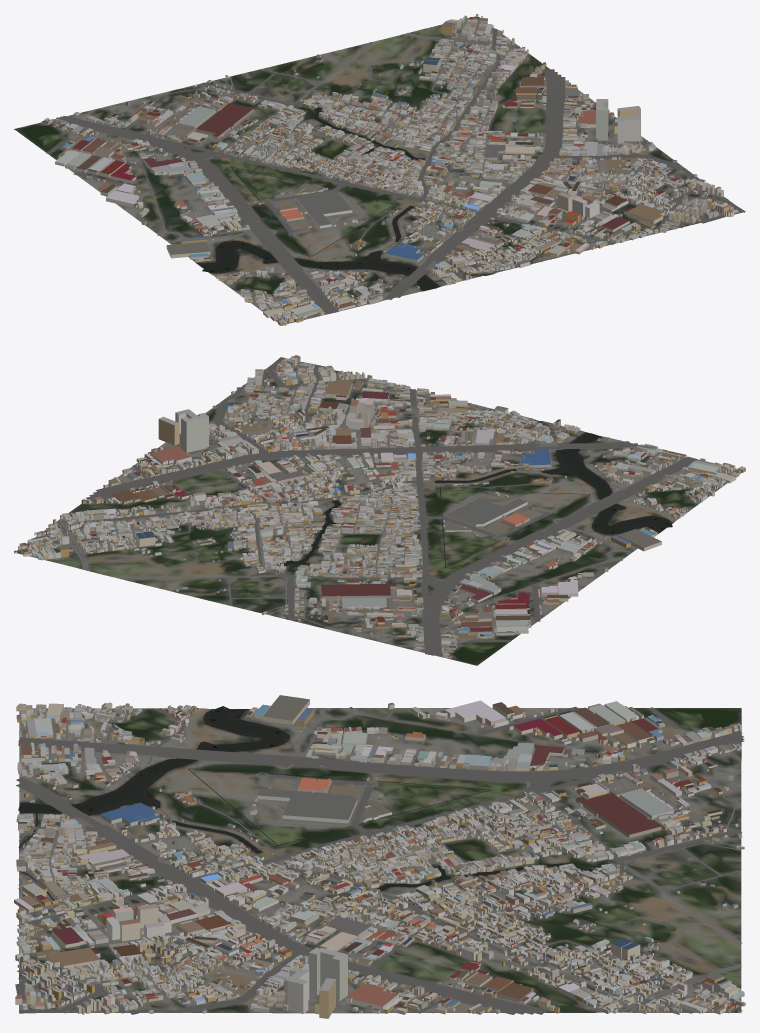
The picture shows the model from 3 angles, top to bottom: view 1: azimuth 30°, elevation 25°; view 2: azimuth 150°, elevation 25°; view 3: azimuth 270°, elevation 25°; orthographic projection. The views are drawn at different scales.
Parts seen in each view (by area): view 1: buildings, ground, roads, water; view 2: buildings, ground, roads, water; view 3: buildings, ground, roads, water.
Part boxes in pixels (x1,y1,x2,y2): buildings: [42, 14, 738, 325]; ground: [14, 16, 744, 323]; roads: [46, 17, 745, 323]; water: [197, 107, 562, 290]; buildings: [14, 355, 745, 658]; ground: [14, 358, 741, 665]; roads: [17, 357, 734, 656]; water: [280, 410, 672, 567]; buildings: [14, 695, 745, 1018]; ground: [19, 708, 741, 1013]; roads: [15, 706, 744, 1014]; water: [18, 706, 593, 900].
Bounding box in the file's own units: 1467 × 93.42 × 1419.
